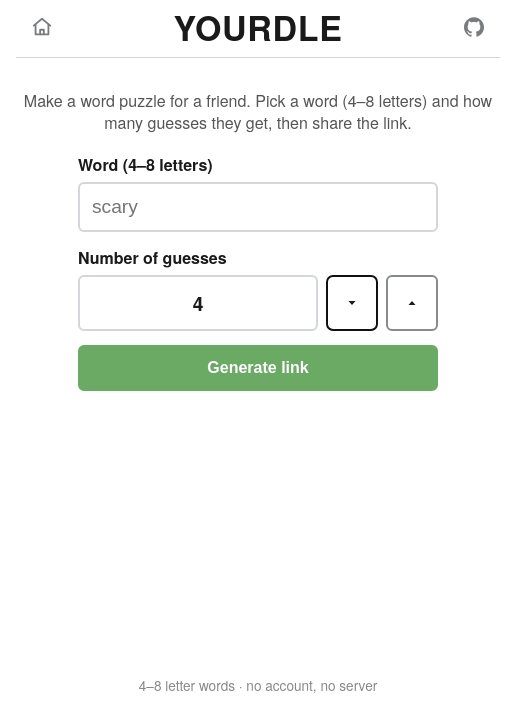
Test case: CreateScreen guess stepper › holds at each bound and marks the button that would leave the range
Earlier steps of the test are not shown.
Later steps or results of the test are not shown.
Click the button named "Fewer guesses" at [352, 303], box x1=326 y1=275 x2=378 y2=331
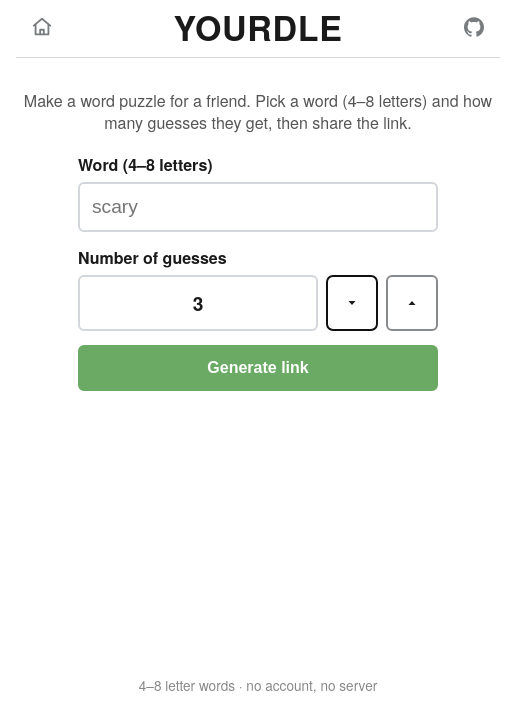
Click the button named "Fewer guesses" at [352, 303], box x1=326 y1=275 x2=378 y2=331
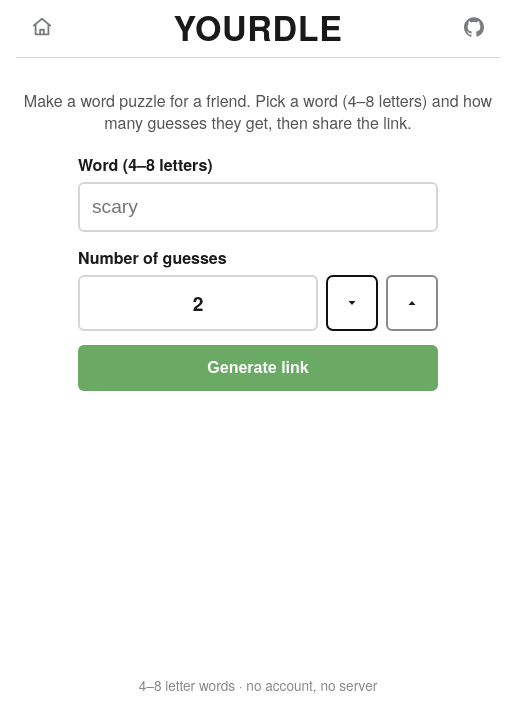
Click the button named "Fewer guesses" at [352, 303], box x1=326 y1=275 x2=378 y2=331
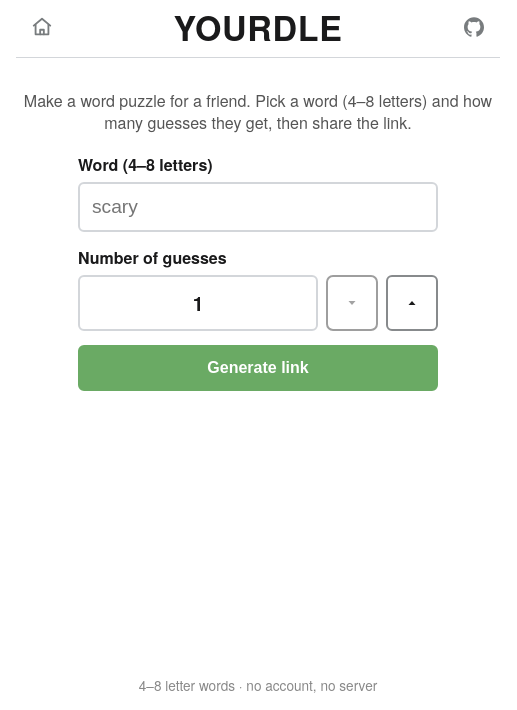
Click the button named "Fewer guesses" at [352, 303], box x1=326 y1=275 x2=378 y2=331
Click the button named "Fewer guesses" at [352, 303], box x1=326 y1=275 x2=378 y2=331
Click the button named "Fewer guesses" at [352, 303], box x1=326 y1=275 x2=378 y2=331
Click the button named "Fewer guesses" at [352, 303], box x1=326 y1=275 x2=378 y2=331
Click the button named "Fewer guesses" at [352, 303], box x1=326 y1=275 x2=378 y2=331
Now the text named "Number of guesses" reads "1", box x1=193 y1=289 x2=203 y2=317
